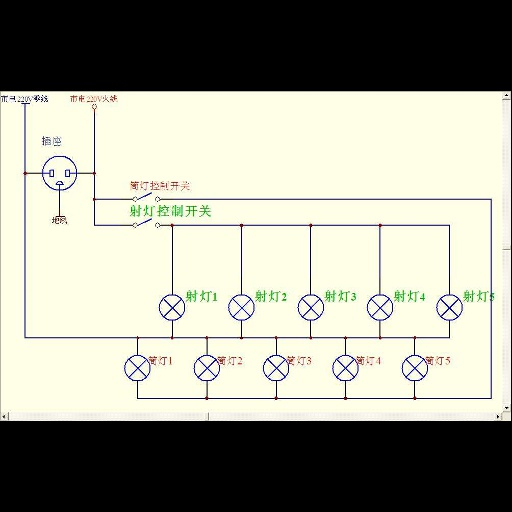light: (292, 293, 325, 324), (223, 292, 255, 323), (328, 351, 359, 383), (433, 292, 464, 324), (395, 353, 428, 383), (155, 291, 186, 322), (120, 351, 150, 383), (188, 353, 220, 383), (257, 353, 289, 383), (364, 291, 394, 322)
